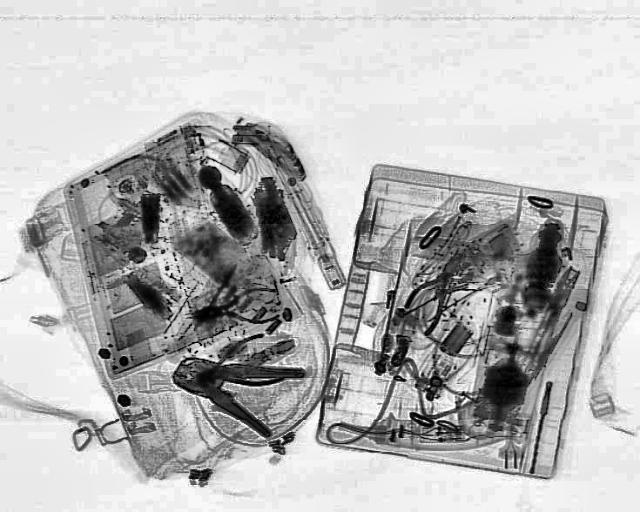Pliers: (154, 332, 310, 438), (388, 243, 484, 337), (181, 332, 285, 400), (179, 284, 287, 332)
